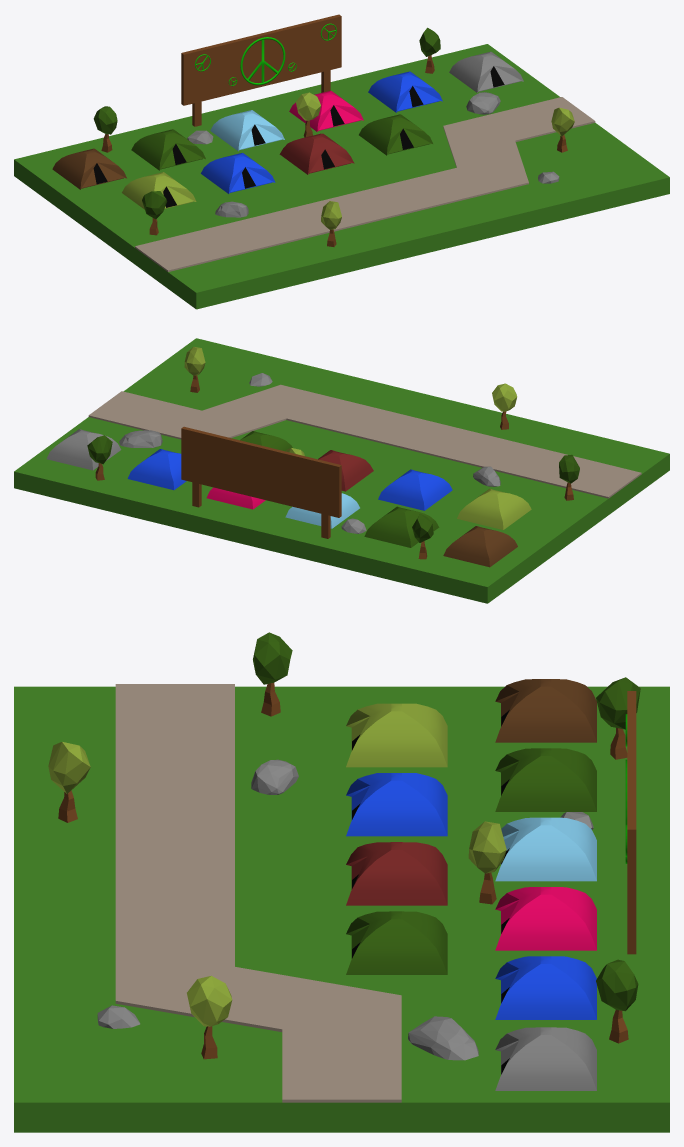
The model's file is Activist’s Tent.fbx.
The picture shows the model from 3 angles, top to bottom: view 1: azimuth 30°, elevation 25°; view 2: azimuth 150°, elevation 25°; view 3: azimuth 270°, elevation 25°; orthographic projection. The views are drawn at different scales.
Visible parts, largest first — view 1: base.020, peac sign, tent.005, tent, tent.004, tent.002, tent.003, tent.009, tent.008, tent.006, tent.007, tent.001 (+8 smaller); view 2: base.020, peac sign, tent.007, tent.006, tent.003, tent.002, tent.004, tent.009, tent.005, tent, tree.006, tent.001 (+7 smaller); view 3: base.020, tent.007, tent.005, tent.006, tent.001, tent.008, tent.003, tent.004, tent.002, tent.009, tent, peac sign (+9 smaller).
Boxes of the visible parts, x1,y1,x2,y2 form: base.020: (14, 44, 669, 309); peac sign: (181, 14, 341, 126); tent.005: (279, 133, 354, 174); tent: (210, 110, 284, 151); tent.004: (368, 71, 442, 112); tent.002: (131, 129, 205, 170); tent.003: (52, 148, 126, 189); tent.009: (449, 51, 523, 92); tent.008: (359, 114, 432, 155); tent.006: (201, 153, 275, 193); tent.007: (122, 172, 196, 209); tent.001: (289, 90, 363, 131); base.020: (14, 338, 669, 603); peac sign: (181, 426, 341, 538); tent.007: (457, 488, 531, 529); tent.006: (378, 469, 452, 510); tent.003: (443, 526, 517, 567); tent.002: (364, 506, 439, 547); tent.004: (127, 449, 186, 490); tent.009: (46, 429, 121, 470); tent.005: (318, 450, 373, 491); tent: (285, 493, 359, 528); tree.006: (492, 383, 517, 429); tent.001: (206, 487, 265, 509); base.020: (14, 684, 669, 1132); tent.007: (346, 703, 447, 767); tent.005: (346, 842, 447, 905); tent.006: (346, 773, 447, 836); tent.001: (495, 887, 596, 950); tent.008: (346, 911, 447, 974); tent.003: (495, 679, 596, 742); tent.004: (495, 956, 596, 1019); tent.002: (495, 748, 596, 811); tent.009: (495, 1027, 596, 1090); tent: (495, 817, 596, 881); peac sign: (625, 691, 636, 954).
Bounding box in the file's own units: 836 × 154 × 558.
